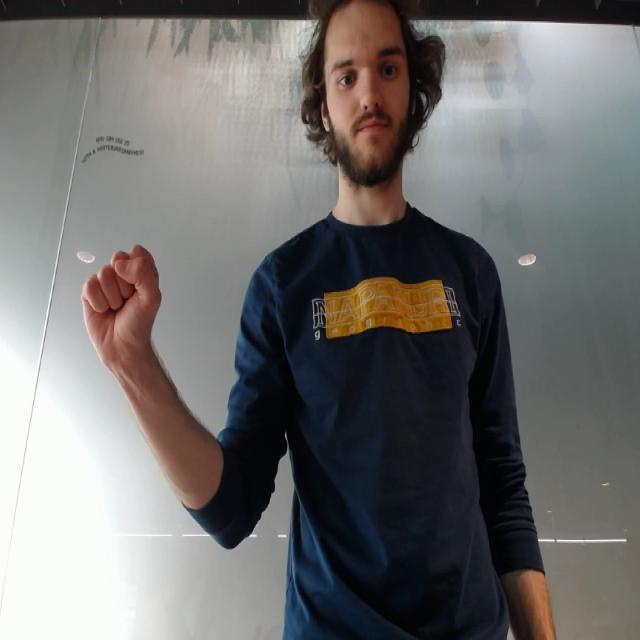stop: (76, 240, 167, 367)
